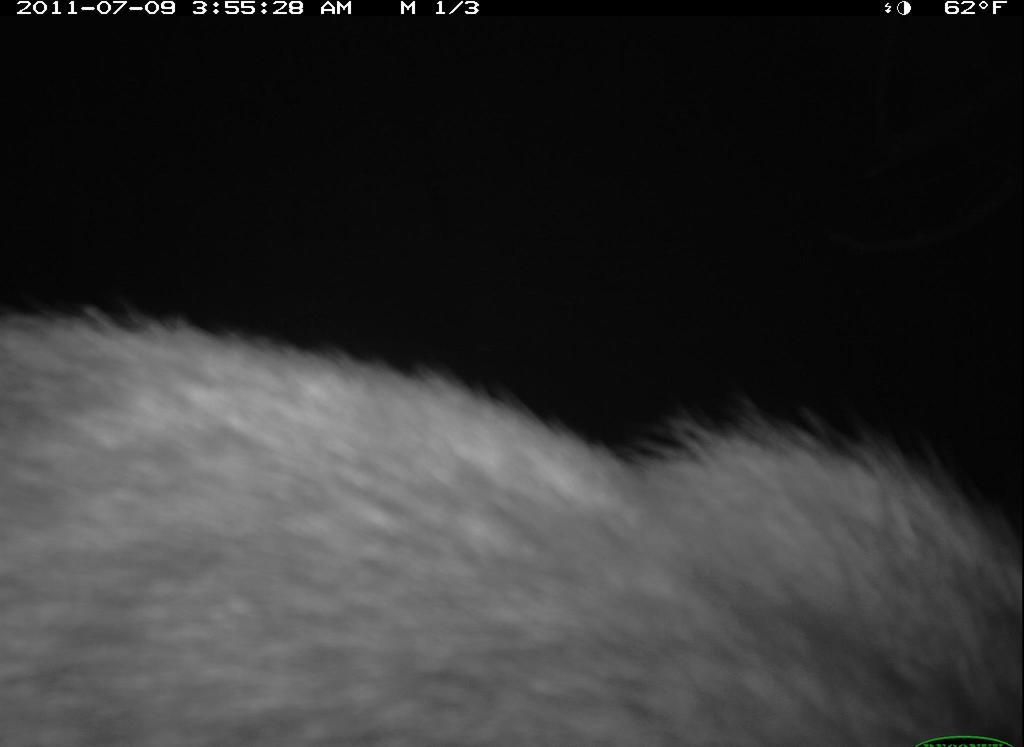raccoon: (1, 300, 1023, 747)
